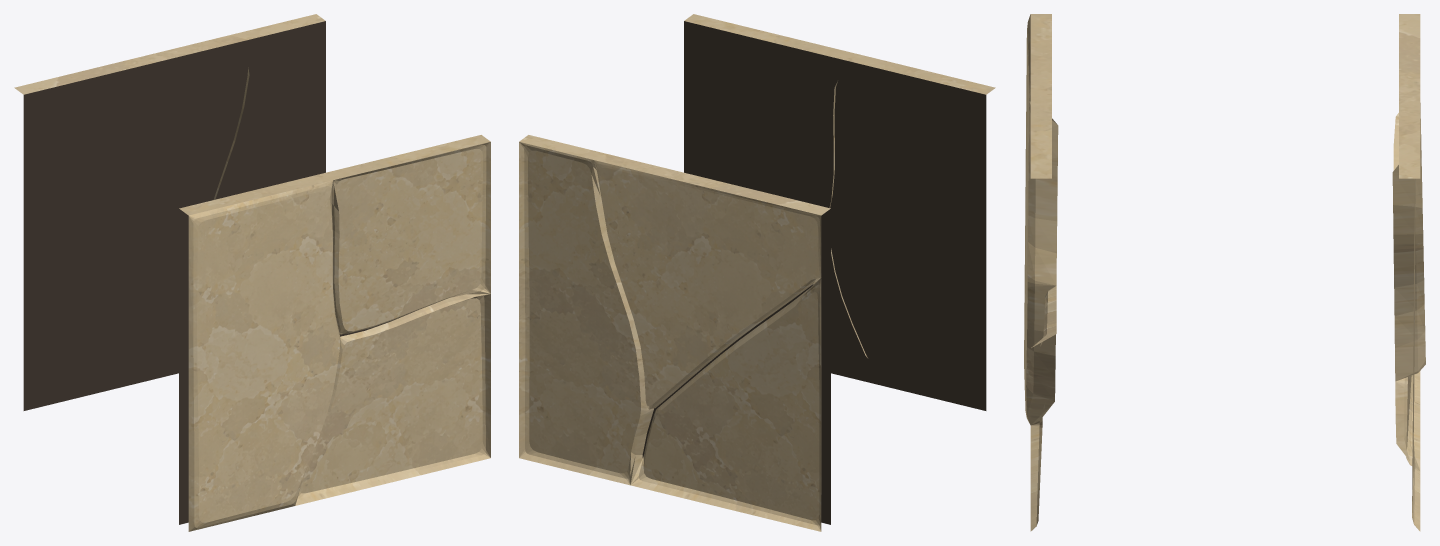
File: ground_square_strip_02.glb
3 views of the same model, side by side, from view 1: azimuth 30°, elevation 25°; view 2: azimuth 150°, elevation 25°; view 3: azimuth 270°, elevation 25° (orthographic). The views are drawn at different scales.
Parts seen in each view (by area): view 1: GroundSquareStrip02_Body; view 2: GroundSquareStrip02_Body; view 3: GroundSquareStrip02_Body.
Boxes of the visible parts, x1,y1,x2,y2 form: GroundSquareStrip02_Body: [14, 14, 490, 531]; GroundSquareStrip02_Body: [519, 14, 995, 531]; GroundSquareStrip02_Body: [1024, 14, 1425, 531].
Size of the model in its own units: 1 by 1 by 1.03.
Materials: 8 (7 with a texture image).
